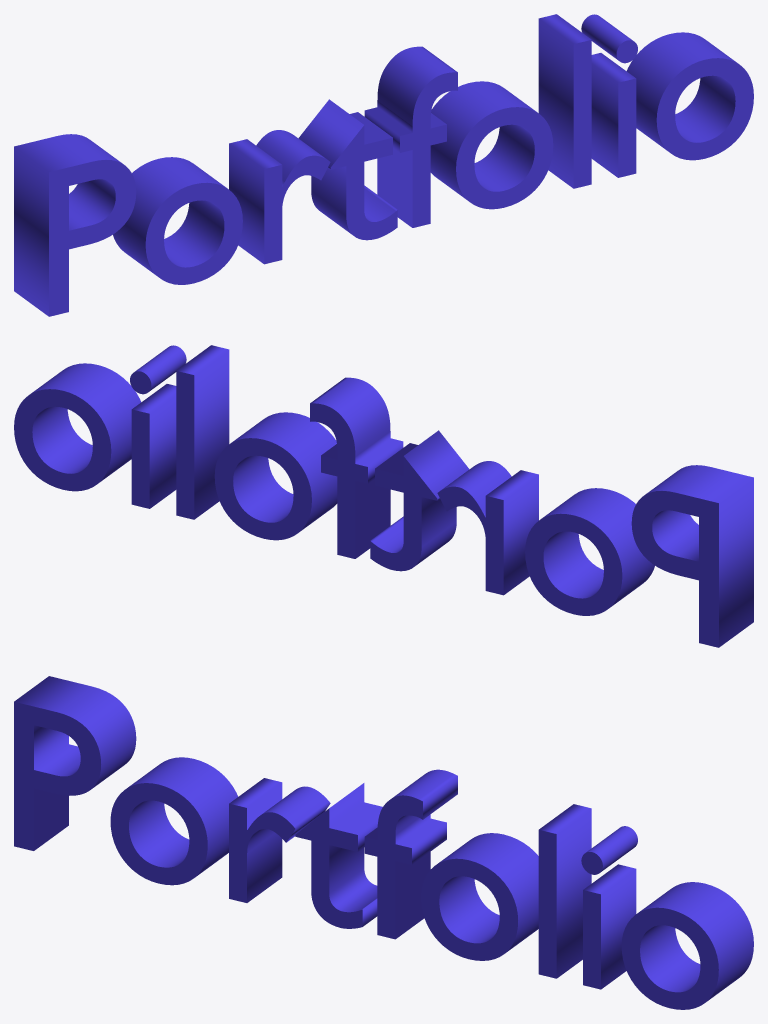
File: portfolio.gltf
3 renders of one model, top to bottom at view 1: azimuth 30°, elevation 25°; view 2: azimuth 150°, elevation 25°; view 3: azimuth 330°, elevation 25°, orthographic.
Visible parts, largest first — view 1: Text; view 2: Text; view 3: Text.
Boxes of the visible parts, box(x1,y1,x2,y2) form: Text: box(14, 14, 753, 316); Text: box(14, 345, 753, 647); Text: box(14, 676, 753, 1009).
Bounding box in the file's own units: 3.48 × 0.7004 × 0.3.
